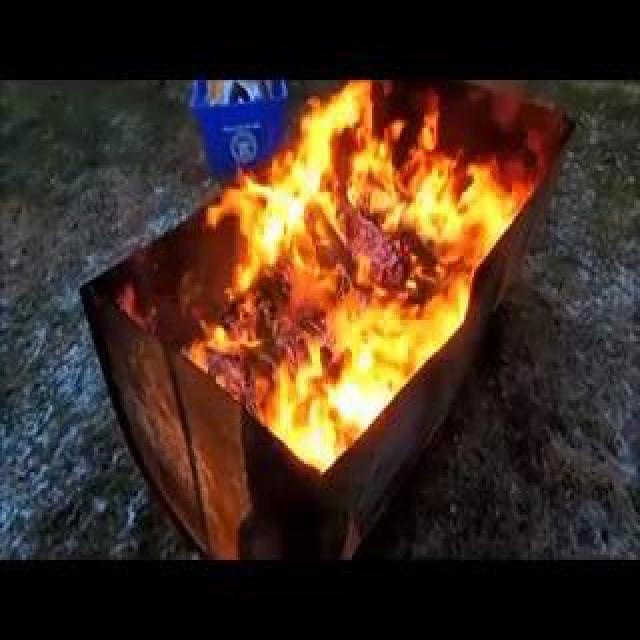Fire: (340, 284, 357, 402)
